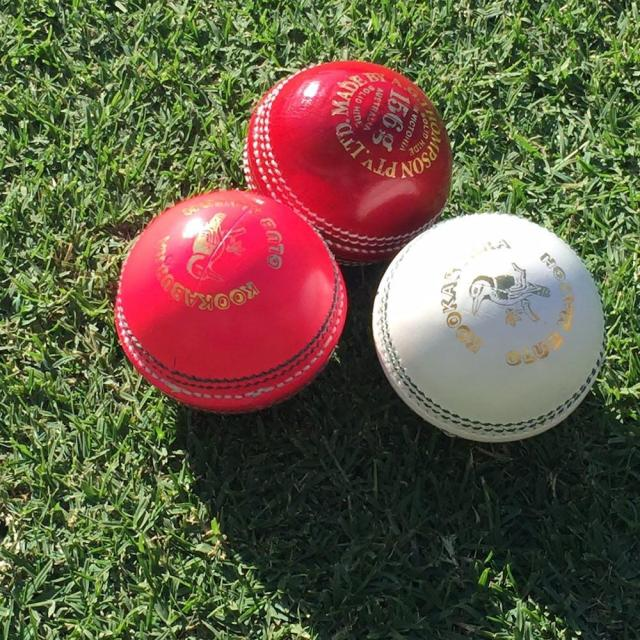ball: (373, 213, 607, 444), (119, 192, 346, 415), (241, 62, 452, 257)
